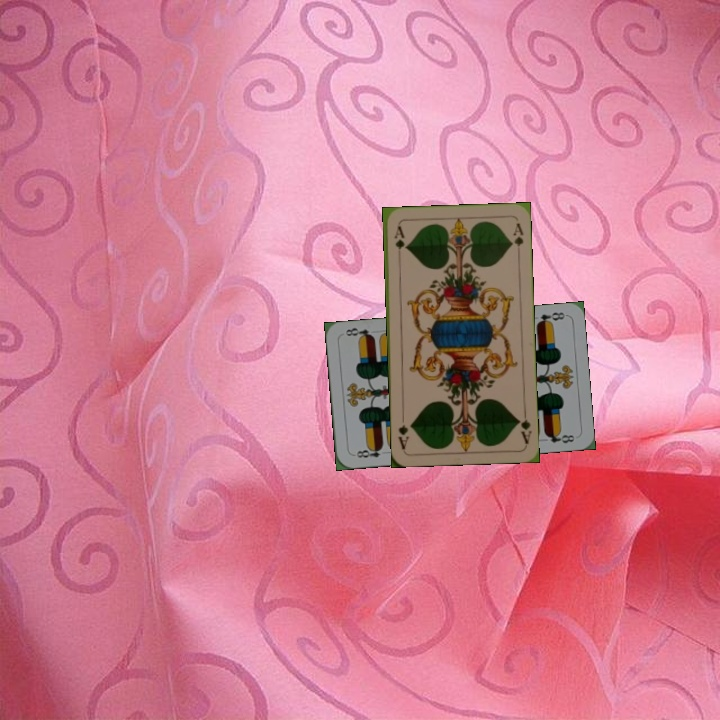E8: (350, 442, 390, 460), (532, 308, 567, 328)
GA: (514, 406, 534, 446), (390, 222, 406, 262)
